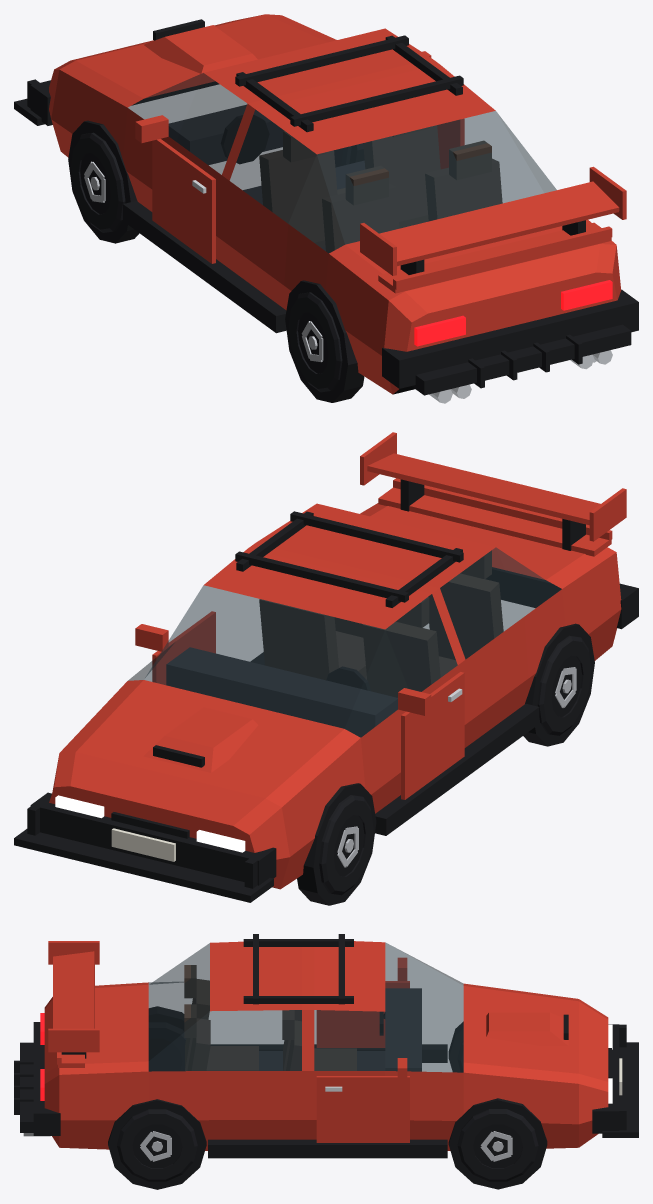
The model's file is sedan.glb.
3 renders of one model, top to bottom at view 1: azimuth 30°, elevation 25°; view 2: azimuth 150°, elevation 25°; view 3: azimuth 270°, elevation 25°, orthographic. The views are drawn at different scales.
Parts seen in each view (by area): view 1: sedan, sedan_door_fl, sedan_wheel_fl, sedan_wheel_rl, sedan_door_fr; view 2: sedan, sedan_door_fl, sedan_wheel_fl, sedan_wheel_rl, sedan_door_fr; view 3: sedan, sedan_door_fr, sedan_wheel_fr, sedan_wheel_rr, sedan_door_fl, sedan_wheel_rl.
Boxes of the visible parts, x1,y1,x2,y2 form: sedan: (14, 14, 638, 403); sedan_door_fl: (152, 138, 215, 263); sedan_wheel_fl: (71, 132, 125, 232); sedan_wheel_rl: (288, 292, 342, 392); sedan_door_fr: (437, 118, 464, 169); sedan: (14, 432, 638, 905); sedan_door_fl: (401, 672, 464, 799); sedan_wheel_fl: (319, 795, 373, 895); sedan_wheel_rl: (537, 635, 591, 735); sedan_door_fr: (152, 611, 215, 684); sedan: (14, 934, 638, 1189); sedan_door_fr: (316, 1076, 409, 1142); sedan_wheel_fr: (457, 1109, 538, 1181); sedan_wheel_rr: (117, 1109, 197, 1181); sedan_door_fl: (316, 981, 409, 1047); sedan_wheel_rl: (148, 1022, 186, 1071).
Size of the model in its own units: 2.14 by 1.59 by 5.1.
